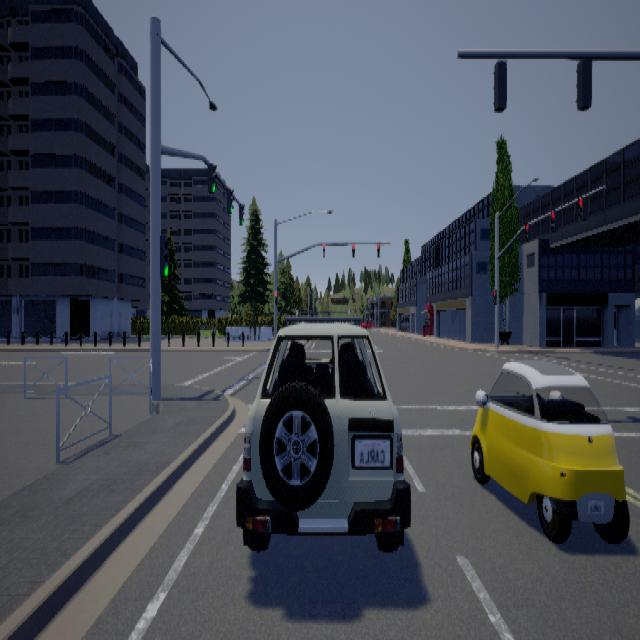green_light: (161, 234, 172, 276), (209, 162, 218, 192), (228, 187, 235, 212), (240, 202, 246, 225)
red_light: (579, 195, 587, 219), (552, 209, 559, 231), (526, 222, 532, 241), (493, 288, 498, 304), (377, 242, 380, 258), (352, 242, 355, 257), (276, 290, 278, 306), (323, 243, 325, 257)
vehicle: (237, 308, 412, 551), (471, 359, 631, 542)
